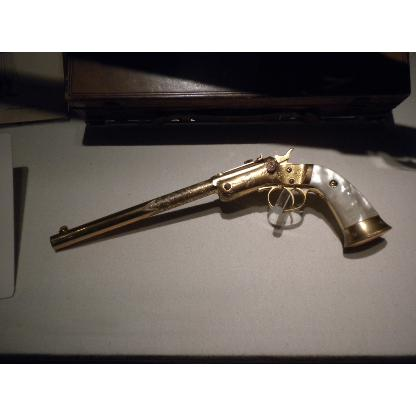gun: (50, 148, 392, 248)
